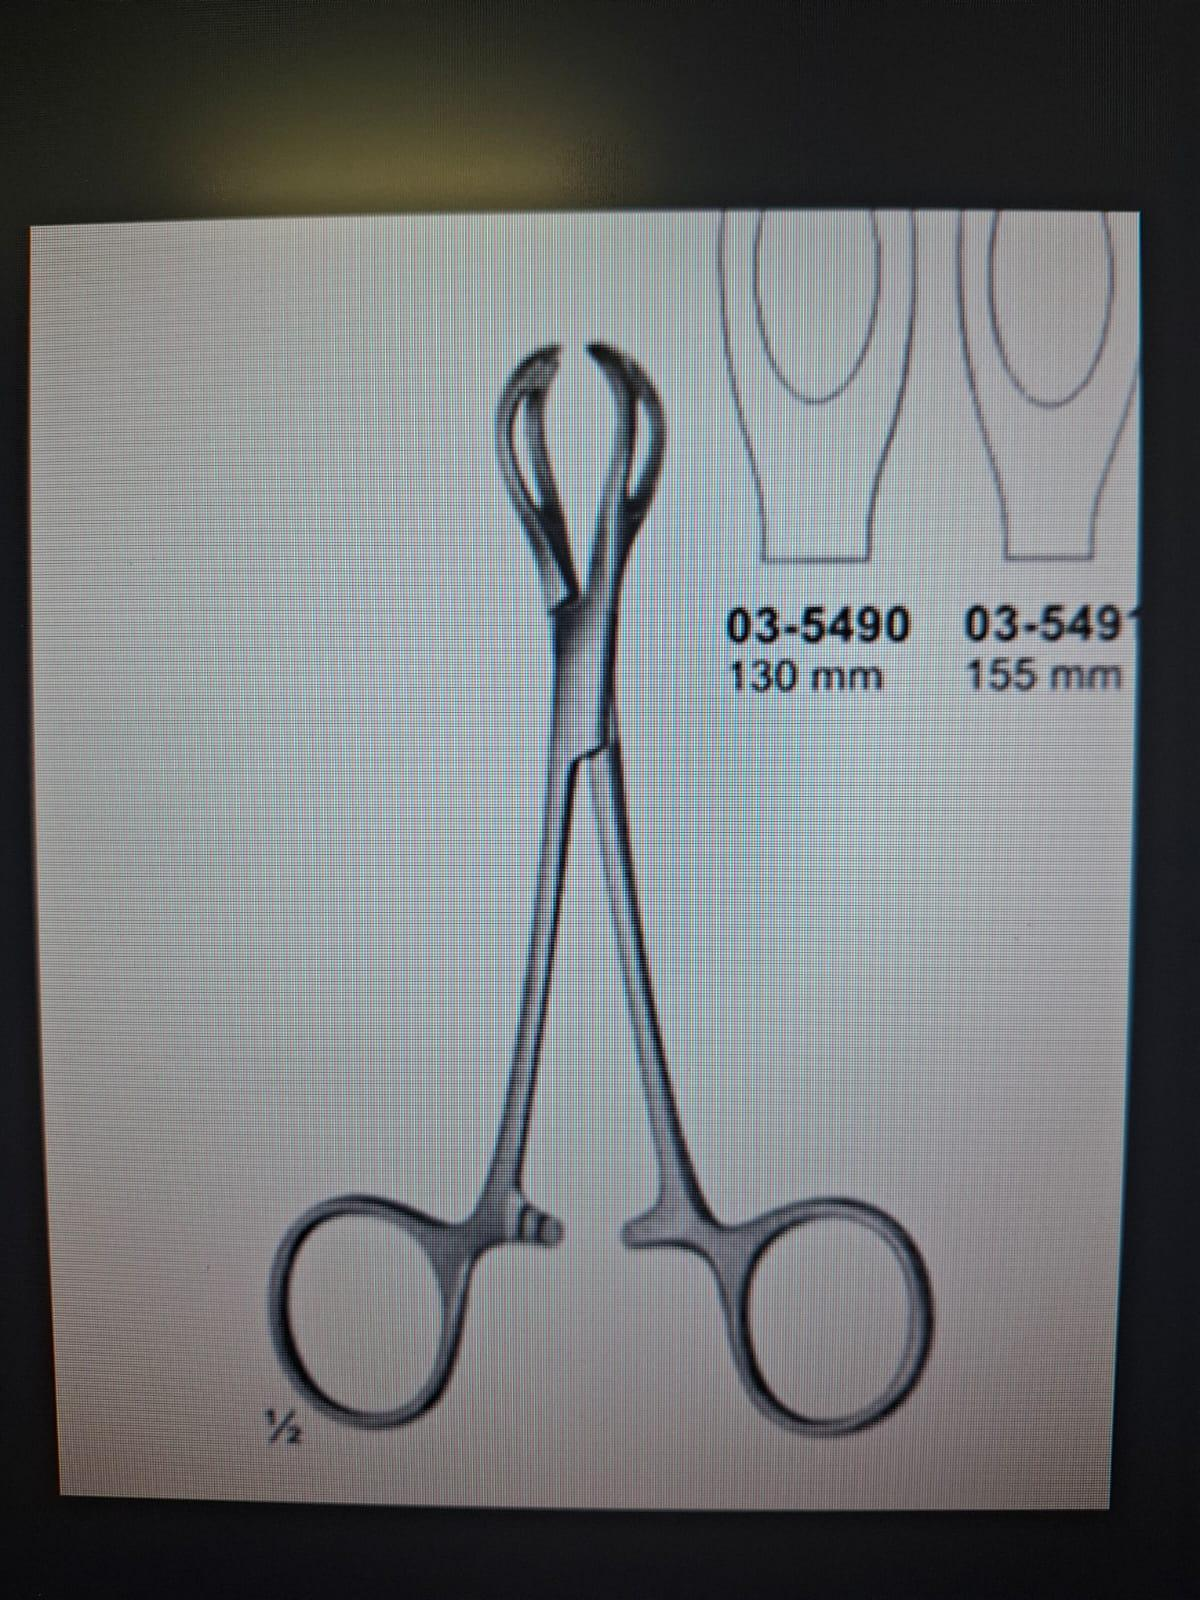Lane Tissue Forceps: (242, 338, 943, 1453)
